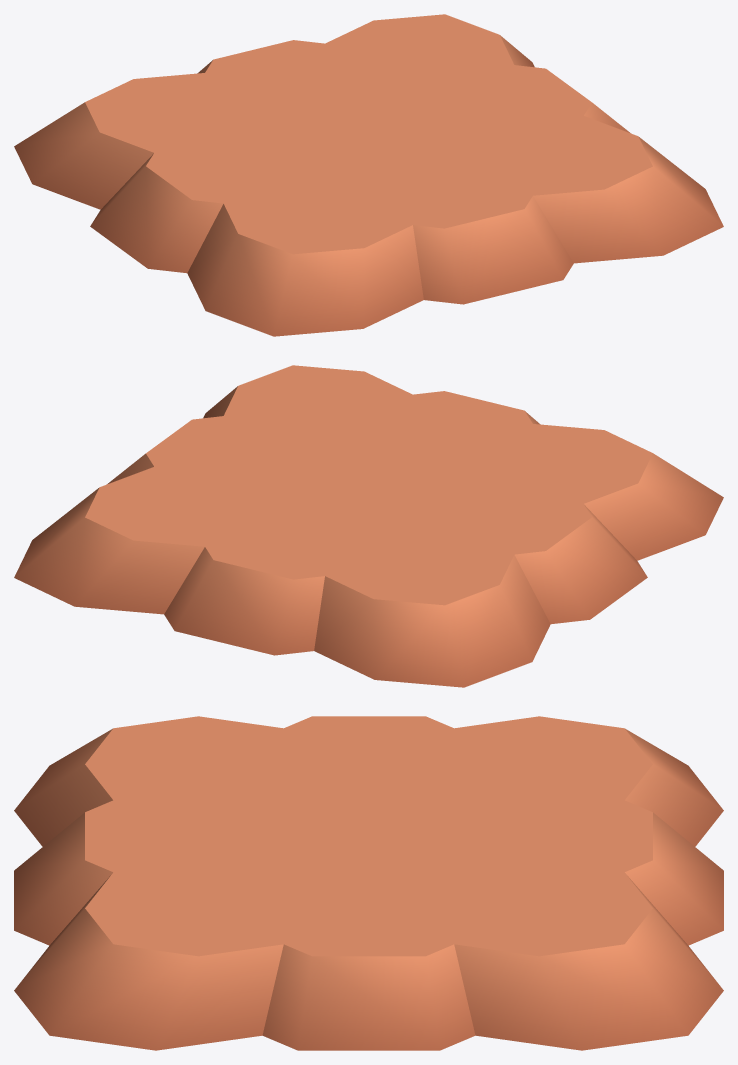
File: patch-dirt.obj
3 views of the same model, one above another, from view 1: azimuth 30°, elevation 25°; view 2: azimuth 150°, elevation 25°; view 3: azimuth 270°, elevation 25° (orthographic). The views are drawn at different scales.
Visible parts, largest first — view 1: patch-dirt; view 2: patch-dirt; view 3: patch-dirt.
Boxes of the visible parts, x1,y1,x2,y2 form: patch-dirt: (14,14,723,336); patch-dirt: (14,365,723,687); patch-dirt: (14,716,723,1050).
Size of the model in its own units: 1 by 0.1 by 1.
1 material, 1 textured.
